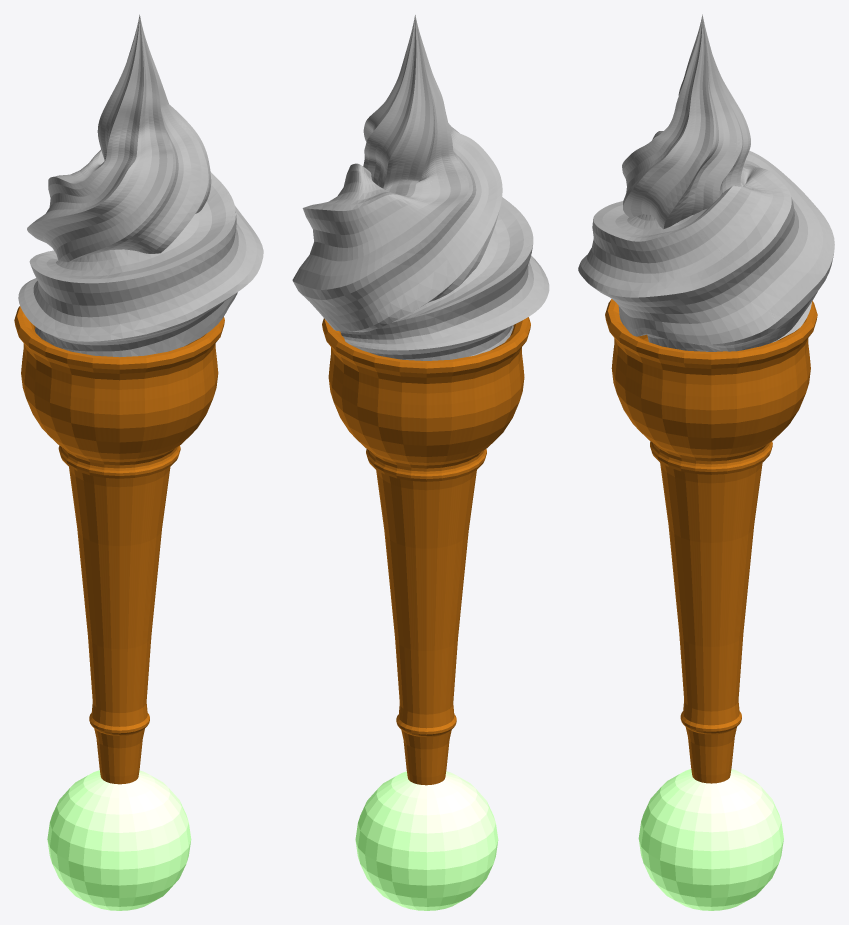
File: AceCream_6.gltf
The picture shows the model from 3 angles, left to right: view 1: azimuth 30°, elevation 25°; view 2: azimuth 150°, elevation 25°; view 3: azimuth 270°, elevation 25°; orthographic projection.
Parts seen in each view (by area): view 1: Icecream, Corneto, Sphere.1; view 2: Icecream, Corneto, Sphere.1; view 3: Icecream, Corneto, Sphere.1.
Boxes of the visible parts, x1,y1,x2,y2 form: Icecream: (18, 14, 263, 357); Corneto: (14, 306, 224, 784); Sphere.1: (47, 770, 191, 910); Icecream: (292, 15, 549, 360); Corneto: (322, 317, 530, 785); Sphere.1: (355, 771, 498, 910); Icecream: (578, 14, 834, 351); Corneto: (605, 299, 817, 783); Sphere.1: (638, 769, 783, 910).
Bounding box in the file's own units: 13.8 × 55.5 × 14.37.
3 materials, 2 textured.
